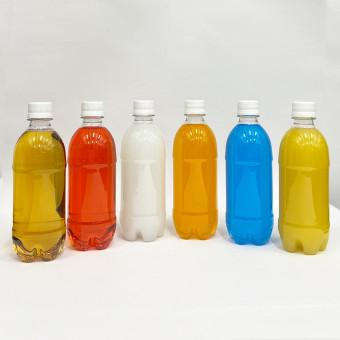bottle: (294, 102, 312, 254), (135, 102, 151, 240), (85, 97, 99, 250), (0, 102, 13, 262), (242, 100, 256, 244), (190, 102, 199, 238)
